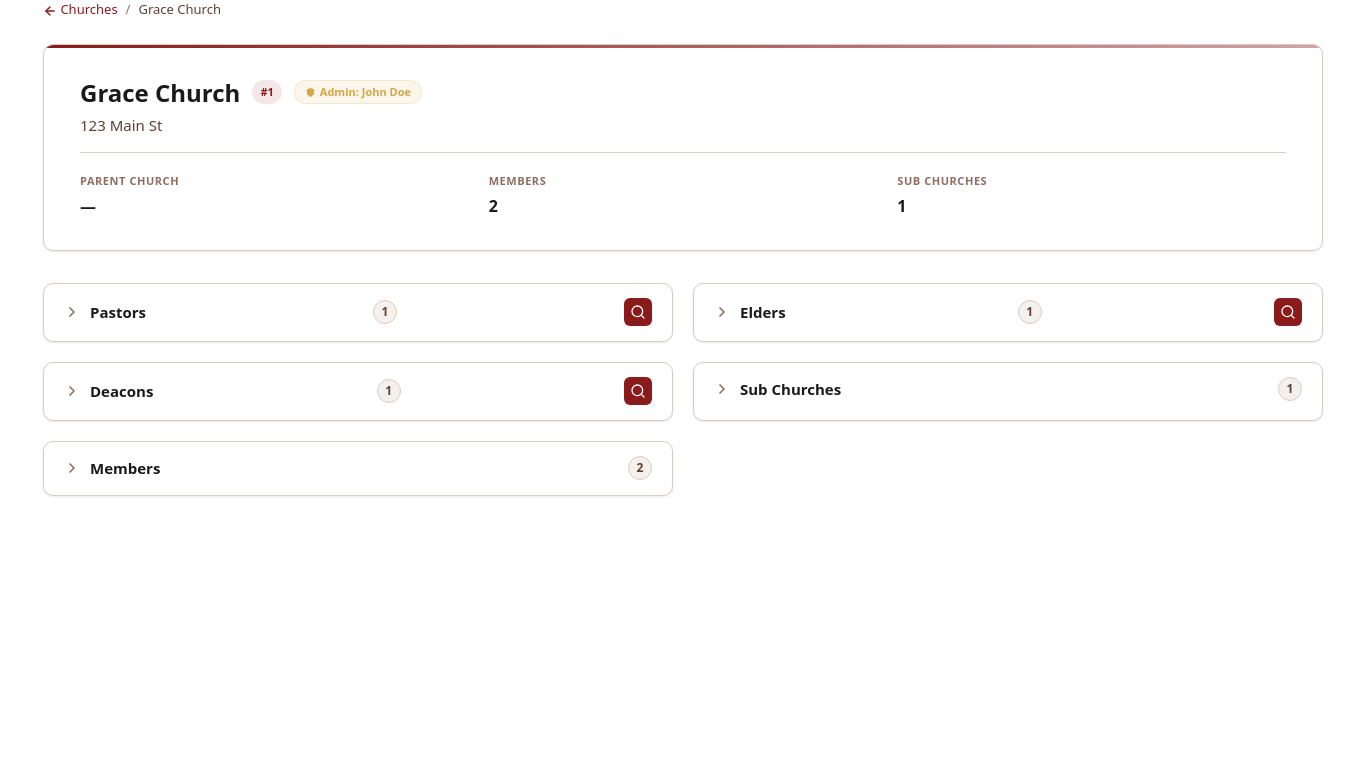
Test: ChurchDetail › assign person modal with paginated results
Click the 1st button with class "cd-add-btn": [638, 312] box [624,298,652,326]
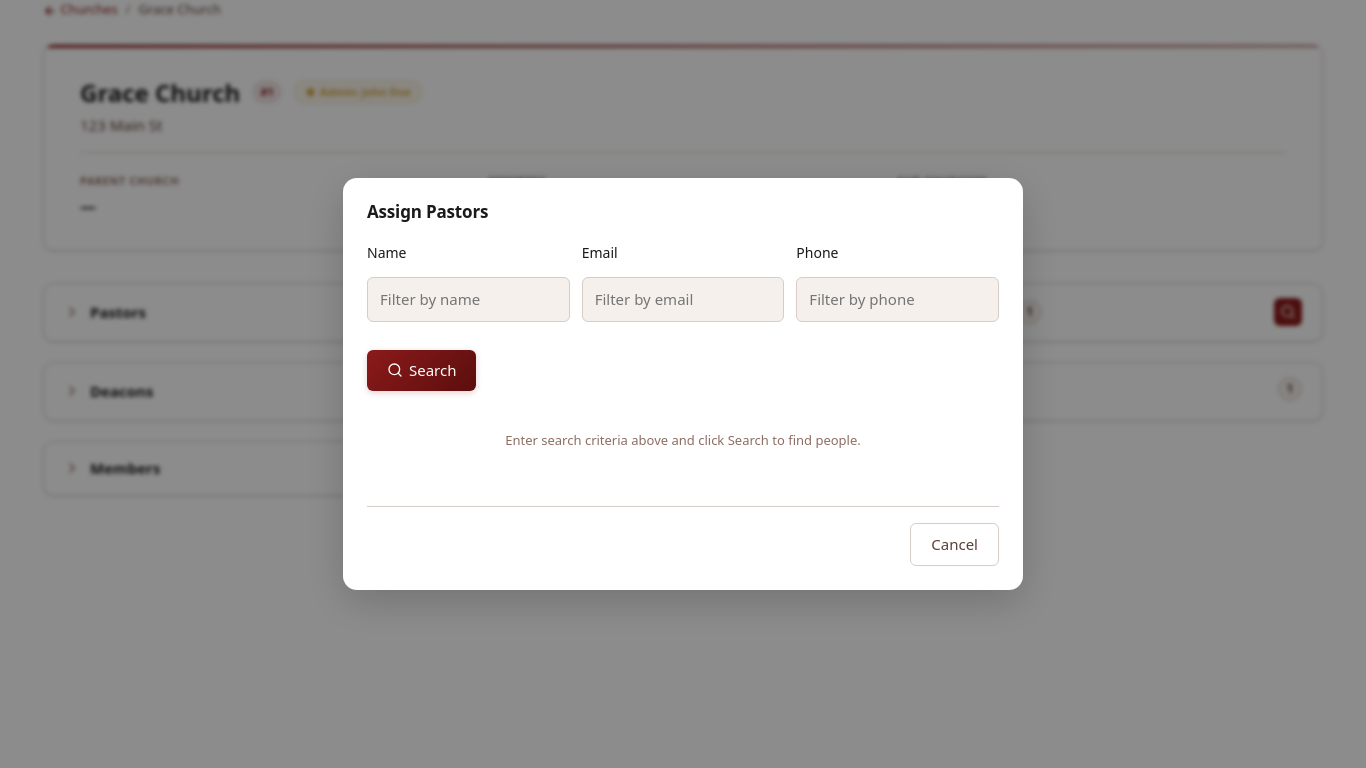
In the field with placeholder "Filter by name": [468, 299] box [367,277,570,322], type "test"
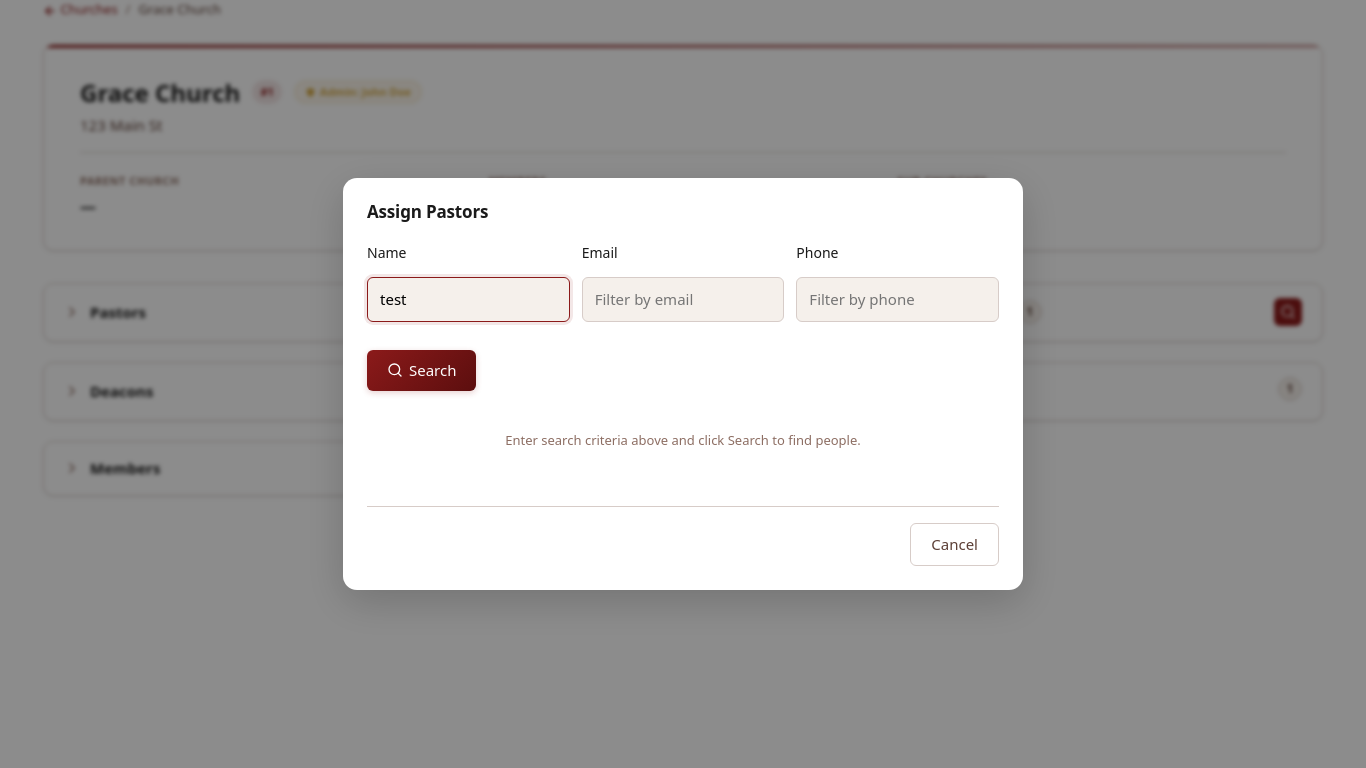
Click the button "Search": [422, 370] box [367,350,476,391]
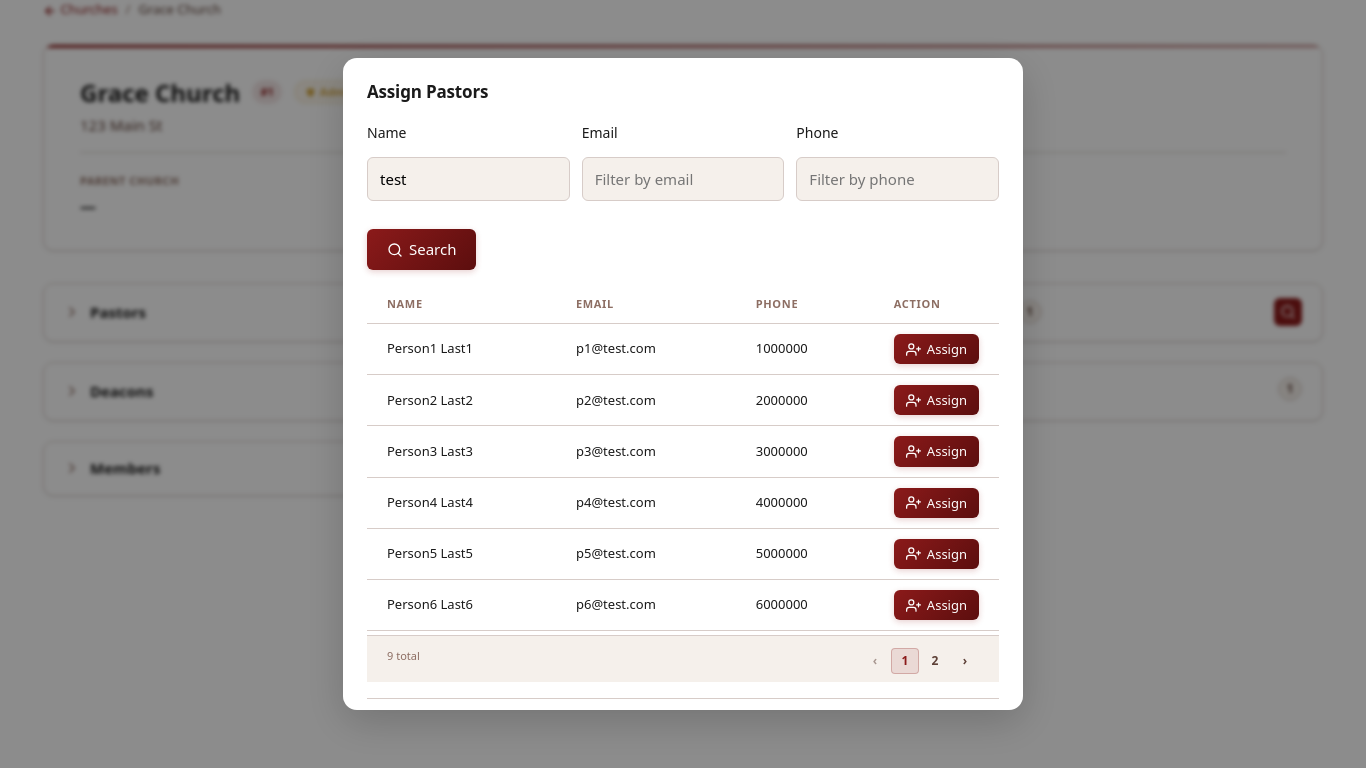
Result: the text "9 total" is shown at [387,648,420,663]
